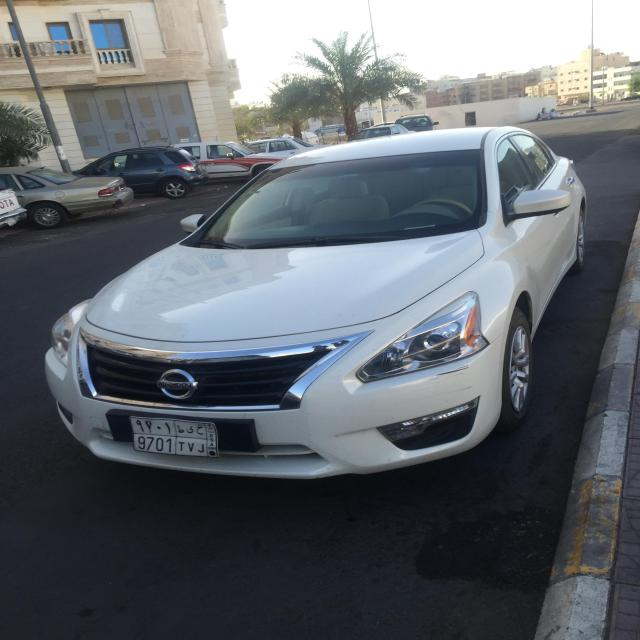license_plate: (126, 416, 222, 462)
